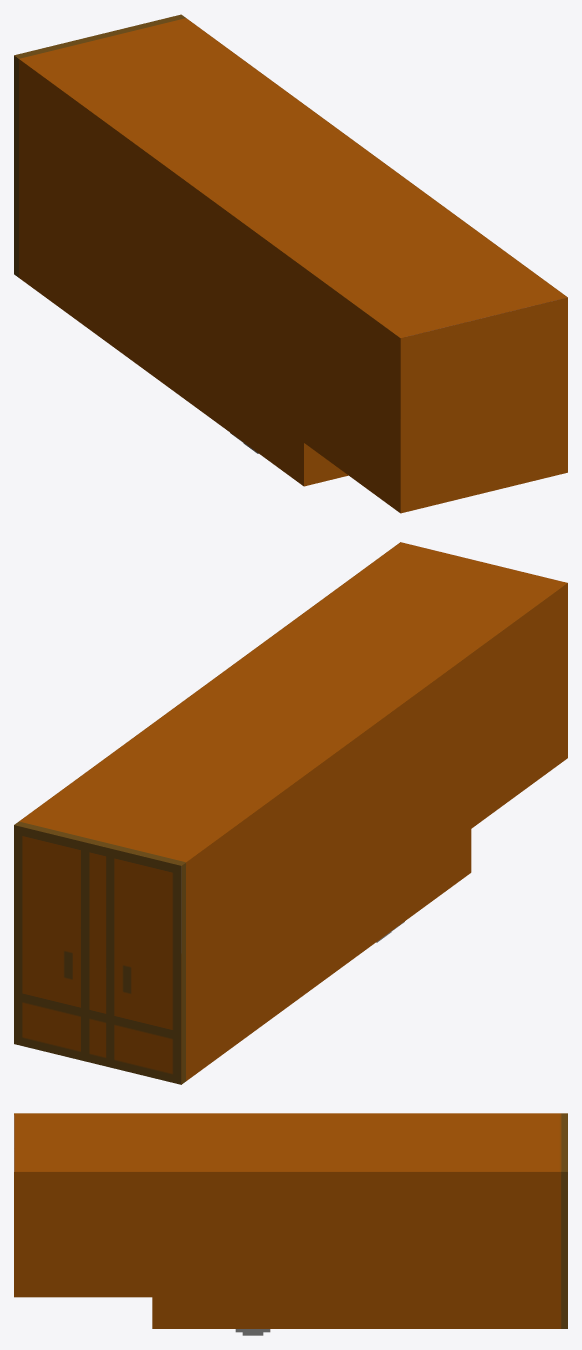
Rendered from Trailer_Box_Var2_2.obj.
3 renders of one model, top to bottom at view 1: azimuth 30°, elevation 25°; view 2: azimuth 150°, elevation 25°; view 3: azimuth 270°, elevation 25°, orthographic. The views are drawn at different scales.
Visible parts, largest first — view 1: Trailer_Box_Var2_2_Trailer_Box_Var2_2.001; view 2: Trailer_Box_Var2_2_Trailer_Box_Var2_2.001; view 3: Trailer_Box_Var2_2_Trailer_Box_Var2_2.001.
Boxes of the visible parts, bbox=[...] form: Trailer_Box_Var2_2_Trailer_Box_Var2_2.001: bbox=[14, 14, 567, 513]; Trailer_Box_Var2_2_Trailer_Box_Var2_2.001: bbox=[14, 542, 567, 1084]; Trailer_Box_Var2_2_Trailer_Box_Var2_2.001: bbox=[14, 1113, 567, 1335].
Size of the model in its own units: 2 by 2.7 by 8.
